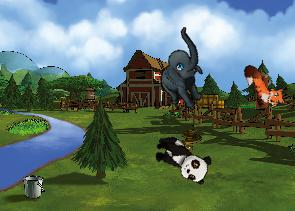elephant: (140, 26, 226, 115)
fox: (240, 55, 293, 116)
panda: (148, 131, 215, 187)
